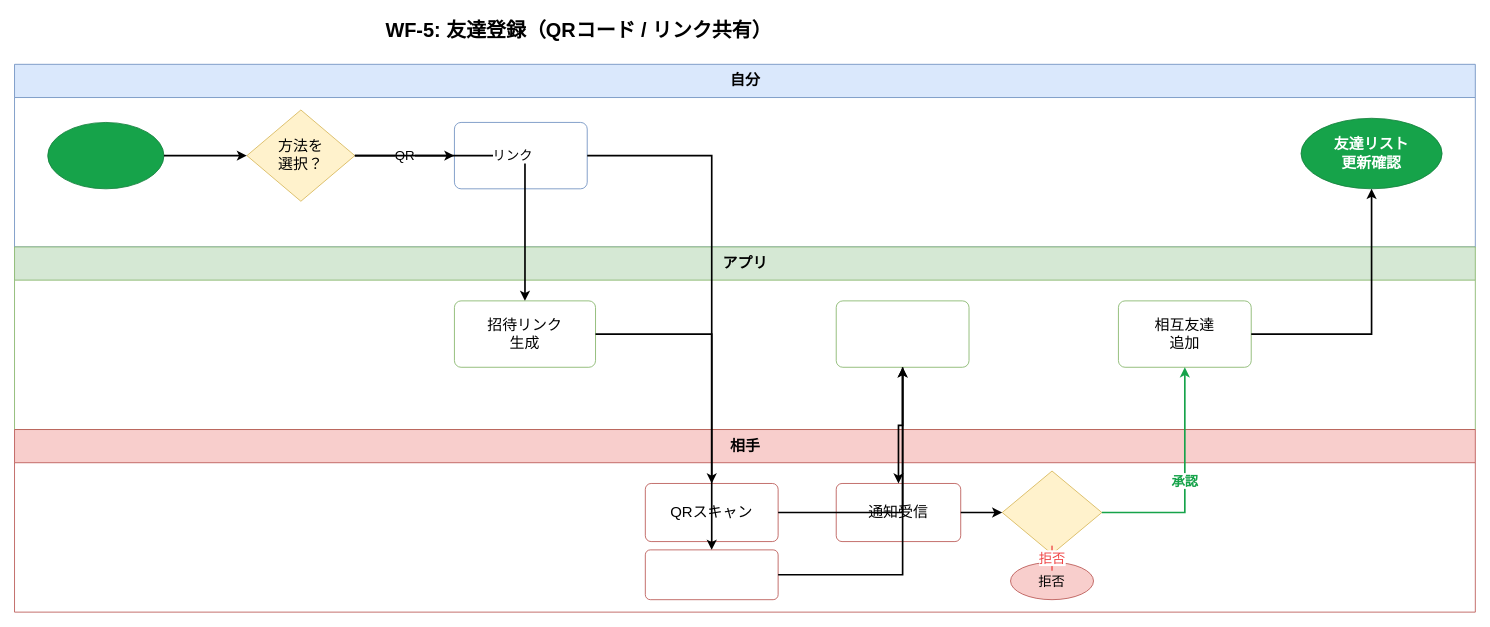
Some shapes in this 1490 by 627 pixel diagram are drawn without their labels. The box of each missing label's shape, as (x1, y1, x2, y2) in pixels:
QRコード 表示: (454, 122, 587, 189)
リンク タップ: (644, 549, 778, 600)
友達申請 処理: (835, 300, 969, 367)
友達追加 タップ: (47, 122, 164, 189)
承認 する？: (1001, 470, 1102, 554)
